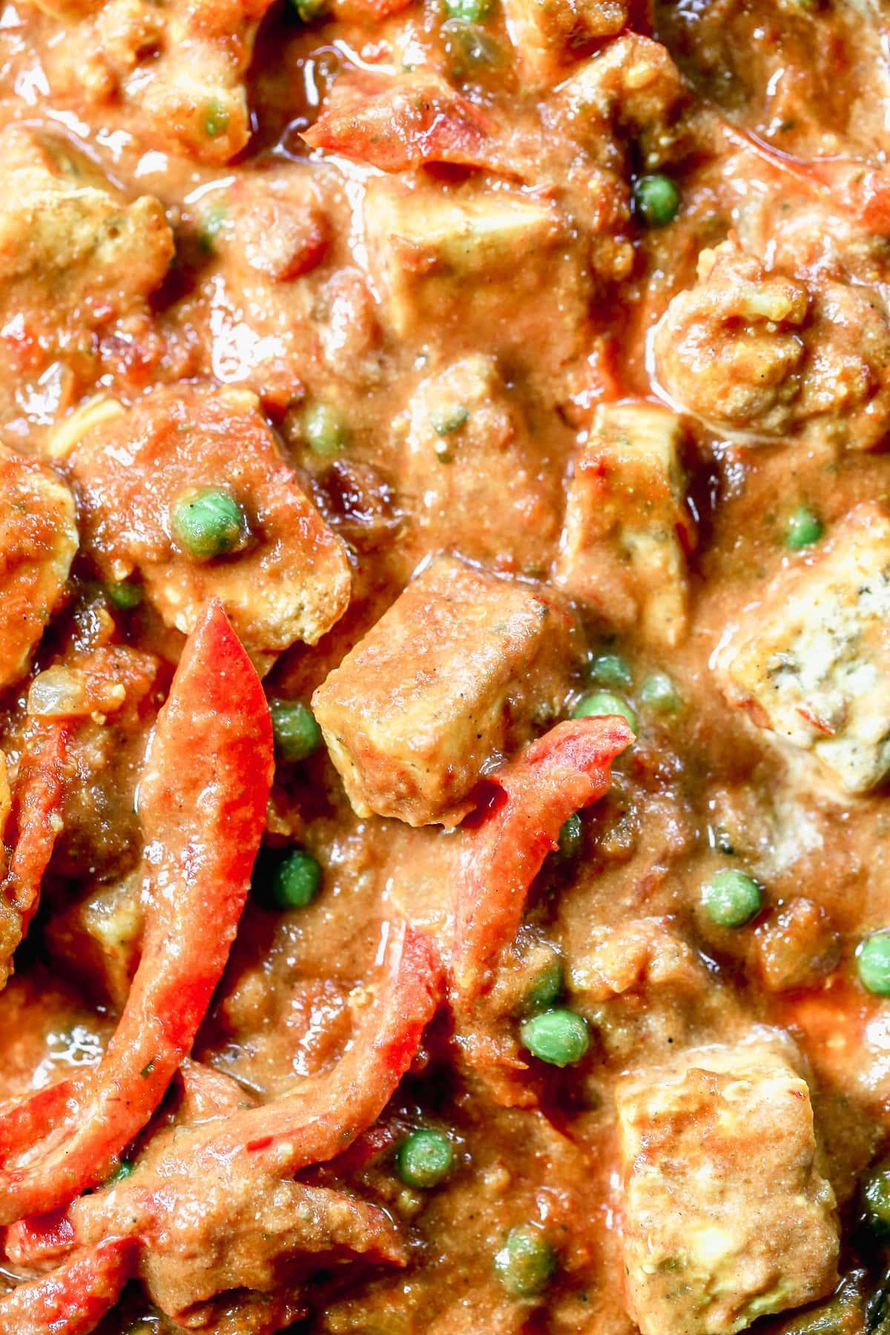paneer: (1, 16, 866, 1331)
